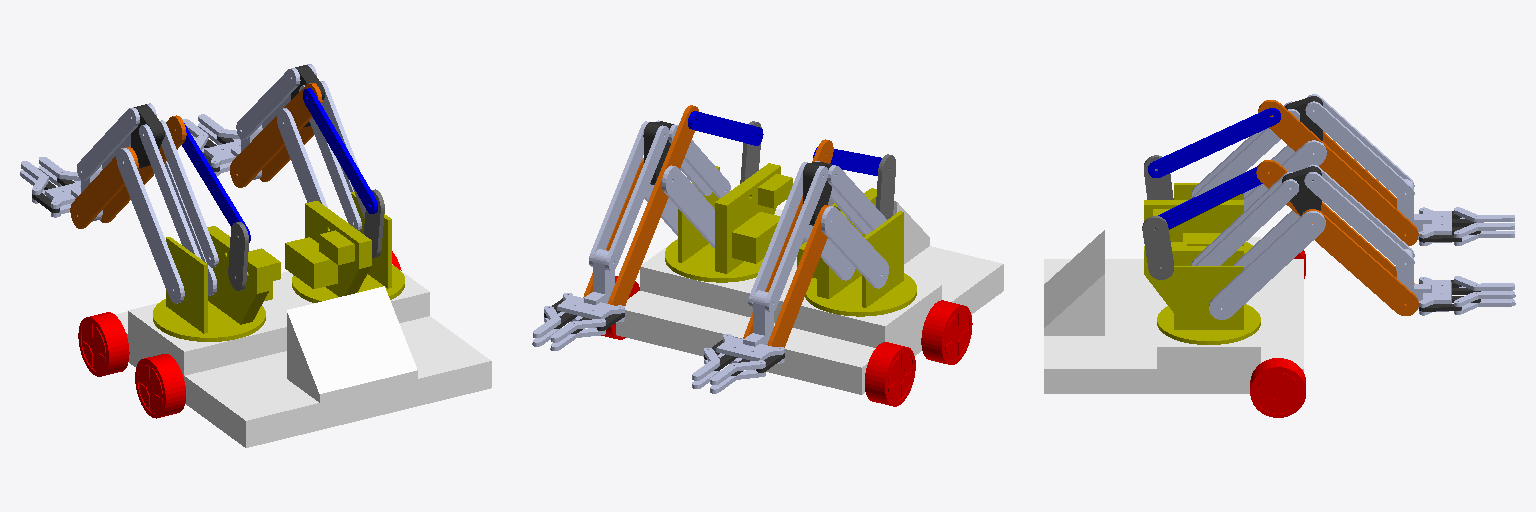
--- Facts derived from the render (not from the file) ---
The picture shows the robot from 3 angles, left to right: view 1: azimuth 30°, elevation 25°; view 2: azimuth 150°, elevation 25°; view 3: azimuth 270°, elevation 25°; orthographic projection.
Model little_boy_urdf with 37 links and 36 joints (36 continuous), rooted at robot_body, posed all joints at 0.
Links seen in each view (by area): view 1: robot_body, shoulder_L, shoulder_R, humSupport_L, humerus_L, ulna_R, ulna_L, wheel_L2, wheel_L1, humSupport_R, triceps_R, ulnaSupport_L (+11 smaller); view 2: robot_body, shoulder_R, shoulder_L, ulnaSupport_L, ulna_R, ulnaSupport_R, humerus_L, ulna_L, wheel_L1, wheel_L2, humerus_R, wrist_L (+13 smaller); view 3: robot_body, shoulder_R, ulna_R, humerus_R, ulna_L, ulnaSupport_R, ulnaSupport_L, humSupport_R, shoulder_L, wheel_R1, triceps_L, humSupport_L (+10 smaller).
Link boxes in pixels (<box>): robot_body: <box>115,264,491,447</box>; shoulder_L: <box>153,226,280,341</box>; shoulder_R: <box>285,192,404,302</box>; humSupport_L: <box>139,120,218,267</box>; humerus_L: <box>116,148,216,303</box>; ulna_R: <box>230,83,322,187</box>; ulna_L: <box>70,115,186,228</box>; wheel_L2: <box>135,354,185,418</box>; wheel_L1: <box>78,312,129,376</box>; humSupport_R: <box>299,81,365,230</box>; triceps_R: <box>303,88,377,213</box>; ulnaSupport_L: <box>77,103,156,180</box>; robot_body: <box>616,198,1003,394</box>; shoulder_R: <box>665,163,792,282</box>; shoulder_L: <box>797,188,916,316</box>; ulnaSupport_L: <box>748,162,827,312</box>; ulna_R: <box>583,105,698,305</box>; ulnaSupport_R: <box>589,121,668,270</box>; humerus_L: <box>804,206,888,288</box>; ulna_L: <box>743,139,833,347</box>; wheel_L1: <box>865,342,915,406</box>; wheel_L2: <box>921,300,972,364</box>; humerus_R: <box>642,158,714,247</box>; wrist_L: <box>716,290,784,369</box>; robot_body: <box>1044,230,1303,393</box>; shoulder_R: <box>1144,242,1260,344</box>; ulna_R: <box>1256,160,1418,315</box>; humerus_R: <box>1209,201,1325,319</box>; ulna_L: <box>1258,100,1418,245</box>; ulnaSupport_R: <box>1304,164,1414,270</box>; ulnaSupport_L: <box>1305,94,1414,201</box>; humSupport_R: <box>1192,172,1298,265</box>; shoulder_L: <box>1144,183,1252,253</box>; wheel_R1: <box>1250,358,1305,417</box>; triceps_L: <box>1148,108,1280,177</box>; humSupport_L: <box>1192,101,1299,197</box>.
Bounding box of the posed robot: 0.36 × 0.5439 × 0.2826 m (x, y, z).
Meshes: 37 distinct files referenced, 34 mesh visuals loaded (34 binary STL); not drawn: 3 (reference not matched to a file when rendering).

URDF robot description (little_boy_urdf):
<?xml version="1.0" encoding="utf-8"?>
<!-- This URDF was automatically created by SolidWorks to URDF Exporter! Originally created by Stephen Brawner ([email redacted]) 
     Commit Version: 1.5.1-0-g916b5db  Build Version: 1.5.7152.31018
     For more information, please see http://wiki.ros.org/sw_urdf_exporter -->
<robot
  name="little_boy_urdf">
  
  
  
  
  <link
    name="robot_body">
    <inertial>
      <origin
        xyz="9.21176008618388E-18 6.56352555085717E-05 0.0269020159399907"
        rpy="0 0 0" />
      <mass
        value="4.266" />
      <inertia
        ixx="0.0303319746647914"
        ixy="5.25706915345657E-18"
        ixz="-1.25619509476993E-18"
        iyy="0.0311586930426629"
        iyz="0.000455042564463212"
        izz="0.0584004816221285" />
    </inertial>
    <visual>
      <origin
        xyz="0 0 0"
        rpy="0 0 0" />
      <geometry>
        <mesh
          filename="package://little_boy_urdf/meshes/robot_body.STL" />
      </geometry>
      <material
        name="">
        <color
          rgba="1 1 1 1" />
      </material>
    </visual>
    <collision>
      <origin
        xyz="0 0 0"
        rpy="0 0 0" />
      <geometry>
        <mesh
          filename="package://little_boy_urdf/meshes/robot_body.STL" />
      </geometry>
    </collision>
  </link>
  
  
  <link
    name="shoulder_L">
    <inertial>
      <origin
        xyz="0.0176282080548852 0.0370896616143596 0.00815080609993397"
        rpy="0 0 0" />
      <mass
        value="0.283423667764616" />
      <inertia
        ixx="0.000265257278790206"
        ixy="-4.2628910300814E-22"
        ixz="7.10003077447642E-09"
        iyy="0.00025941290370256"
        iyz="-1.9172409284844E-06"
        izz="0.000144352415869328" />
    </inertial>
    <visual>
      <origin
        xyz="0 0 0"
        rpy="0 0 0" />
      <geometry>
        <mesh
          filename="package://little_boy_urdf/meshes/shoulder_L.STL" />
      </geometry>
      <material
        name="">
        <color
          rgba="0.752941176470588 0.752941176470588 0 1" />
      </material>
    </visual>
    <collision>
      <origin
        xyz="0 0 0"
        rpy="0 0 0" />
      <geometry>
        <mesh
          filename="package://little_boy_urdf/meshes/shoulder_L.STL" />
      </geometry>
    </collision>
  </link>

  <joint
    name="servo_L0"
    type="continuous">
    <origin
      xyz="-0.085 0.04 0.06"
      rpy="1.5708 0 0" />
    <parent
      link="robot_body" />
    <child
      link="shoulder_L" />
    <axis
      xyz="0 1 0" />
  </joint>
  
  
  <link
    name="humerus_L">
    <inertial>
      <origin
        xyz="-0.0750000000000015 -2.74849587533765E-14 0.012499999999989"
        rpy="0 0 0" />
      <mass
        value="0.0519272118011656" />
      <inertia
        ixx="3.88070998990836E-06"
        ixy="-4.40465602901709E-17"
        ixz="-1.48711239403269E-17"
        iyy="0.000130596276371464"
        iyz="-4.16767946942295E-19"
        izz="0.000134260622978868" />
    </inertial>
    <visual>
      <origin
        xyz="0 0 0"
        rpy="0 0 0" />
      <geometry>
        <mesh
          filename="package://little_boy_urdf/meshes/humerus_L.STL" />
      </geometry>
      <material
        name="">
        <color
          rgba="0.792156862745098 0.819607843137255 0.933333333333333 1" />
      </material>
    </visual>
    <collision>
      <origin
        xyz="0 0 0"
        rpy="0 0 0" />
      <geometry>
        <mesh
          filename="package://little_boy_urdf/meshes/humerus_L.STL" />
      </geometry>
    </collision>
  </link>

  <joint
    name="servo_L1"
    type="continuous">
    <origin
      xyz="0 0.035 -0.015"
      rpy="1.5708 -0.7854 -1.5708" />
    <parent
      link="shoulder_L" />
    <child
      link="humerus_L" />
    <axis
      xyz="0 0 1" />
  </joint>
  
  
  <link
    name="elbow_L">
    <inertial>
      <origin
        xyz="-0.00793696847270822 0.0282227462443586 0.00749999999996474"
        rpy="0 0 0" />
      <mass
        value="0.0427619510241515" />
      <inertia
        ixx="1.36758061050991E-05"
        ixy="1.99613319993035E-06"
        ixz="-4.37784798637207E-22"
        iyy="6.30957779977599E-06"
        iyz="-2.23039997158108E-22"
        izz="1.83818107414694E-05" />
    </inertial>
    <visual>
      <origin
        xyz="0 0 0"
        rpy="0 0 0" />
      <geometry>
        <mesh
          filename="package://little_boy_urdf/meshes/elbow_L.STL" />
      </geometry>
      <material
        name="">
        <color
          rgba="0.250980392156863 0.250980392156863 0.250980392156863 1" />
      </material>
    </visual>
    <collision>
      <origin
        xyz="0 0 0"
        rpy="0 0 0" />
      <geometry>
        <mesh
          filename="package://little_boy_urdf/meshes/elbow_L.STL" />
      </geometry>
    </collision>
  </link>

  <joint
    name="elbow_humerus_joint_L"
    type="continuous">
    <origin
      xyz="-0.15 0 0.02"
      rpy="3.1416 0 -2.3514" />
    <parent
      link="humerus_L" />
    <child
      link="elbow_L" />
    <axis
      xyz="0 0 1" />
  </joint>
  
  
  <link
    name="ulnaSupport_L">
    <inertial>
      <origin
        xyz="-0.0750000000002135 -4.1133763062362E-14 -0.00750000000015374"
        rpy="0 0 0" />
      <mass
        value="0.0330002209841783" />
      <inertia
        ixx="1.1472107551594E-06"
        ixy="-4.91914913513527E-17"
        ixz="-4.68497760382373E-17"
        iyy="7.52734537911621E-05"
        iyz="6.29487683505912E-19"
        izz="7.62831636255541E-05" />
    </inertial>
    <visual>
      <origin
        xyz="0 0 0"
        rpy="0 0 0" />
      <geometry>
        <mesh
          filename="package://little_boy_urdf/meshes/ulnaSupport_L.STL" />
      </geometry>
      <material
        name="">
        <color
          rgba="0.792156862745098 0.819607843137255 0.933333333333333 1" />
      </material>
    </visual>
    <collision>
      <origin
        xyz="0 0 0"
        rpy="0 0 0" />
      <geometry>
        <mesh
          filename="package://little_boy_urdf/meshes/ulnaSupport_L.STL" />
      </geometry>
    </collision>
  </link>

  <joint
    name="ulnaSupport_elbow_joint_L"
    type="continuous">
    <origin
      xyz="0 0.05 0"
      rpy="3.1416 0 2.361" />
    <parent
      link="elbow_L" />
    <child
      link="ulnaSupport_L" />
    <axis
      xyz="0 0 1" />
  </joint>
  
  
  <link
    name="ulna_L">
    <inertial>
      <origin
        xyz="0.0545874765335618 3.00315328161105E-14 0.00998412959802818"
        rpy="0 0 0" />
      <mass
        value="0.0623918688838127" />
      <inertia
        ixx="4.68999147843953E-06"
        ixy="-1.60362395156552E-16"
        ixz="1.52891544727598E-16"
        iyy="0.000245475802534651"
        iyz="-2.76301776881152E-18"
        izz="0.000249905827892741" />
    </inertial>
    <visual>
      <origin
        xyz="0 0 0"
        rpy="0 0 0" />
      <geometry>
        <mesh
          filename="package://little_boy_urdf/meshes/ulna_L.STL" />
      </geometry>
      <material
        name="">
        <color
          rgba="0.909803921568627 0.443137254901961 0.0313725490196078 1" />
      </material>
    </visual>
    <collision>
      <origin
        xyz="0 0 0"
        rpy="0 0 0" />
      <geometry>
        <mesh
          filename="package://little_boy_urdf/meshes/ulna_L.STL" />
      </geometry>
    </collision>
  </link>

  <joint
    name="ulna_humerus_joint_L"
    type="continuous">
    <origin
      xyz="-0.15 0 0"
      rpy="0 0 -1.5708" />
    <parent
      link="humerus_L" />
    <child
      link="ulna_L" />
    <axis
      xyz="0 0 1" />
  </joint>
  
  
  <link
    name="wrist_L">
    <inertial>
      <origin
        xyz="0.00749999999967534 0.0120255662033428 0.0177078963678105"
        rpy="0 0 0" />
      <mass
        value="0.045714101606315" />
      <inertia
        ixx="1.44625861769414E-05"
        ixy="-2.58465531825402E-18"
        ixz="-3.3417103259848E-18"
        iyy="1.14249586142422E-05"
        iyz="1.96430007002813E-06"
        izz="1.69837601342726E-05" />
    </inertial>
    <visual>
      <origin
        xyz="0 0 0"
        rpy="0 0 0" />
      <geometry>
        <mesh
          filename="package://little_boy_urdf/meshes/wrist_L.STL" />
      </geometry>
      <material
        name="">
        <color
          rgba="0.792156862745098 0.819607843137255 0.933333333333333 1" />
      </material>
    </visual>
    <collision>
      <origin
        xyz="0 0 0"
        rpy="0 0 0" />
      <geometry>
        <mesh
          filename="package://little_boy_urdf/meshes/wrist_L.STL" />
      </geometry>
    </collision>
  </link>

  <joint
    name="wrist_ulna_joint_L"
    type="continuous">
    <origin
      xyz="0.15 0 0.005"
      rpy="2.3514 -1.5708 0" />
    <parent
      link="ulna_L" />
    <child
      link="wrist_L" />
    <axis
      xyz="1 0 0" />
  </joint>
  
  
  <link
    name="metacarpal_1_L">
    <inertial>
      <origin
        xyz="-7.72187869202412E-13 -0.00249999999887215 -0.0200000000001463"
        rpy="0 0 0" />
      <mass
        value="0.00236128315516283" />
      <inertia
        ixx="4.51879117250703E-07"
        ixy="9.61510750502193E-23"
        ixz="-9.4930917662086E-18"
        iyy="4.66072959289763E-07"
        iyz="4.27636673182974E-20"
        izz="2.40325218522389E-08" />
    </inertial>
    <visual>
      <origin
        xyz="0 0 0"
        rpy="0 0 0" />
      <geometry>
        <mesh
          filename="package://little_boy_urdf/meshes/metacarpal_1_L.STL" />
      </geometry>
      <material
        name="">
        <color
          rgba="0.250980392156863 0.250980392156863 0.250980392156863 1" />
      </material>
    </visual>
    <collision>
      <origin
        xyz="0 0 0"
        rpy="0 0 0" />
      <geometry>
        <mesh
          filename="package://little_boy_urdf/meshes/metacarpal_1_L.STL" />
      </geometry>
    </collision>
  </link>

  <joint
    name="metacarpal_1_joint_L"
    type="continuous">
    <origin
      xyz="0.039713 0 0.020587"
      rpy="3.1416 1.0036E-05 0" />
    <parent
      link="wrist_L" />
    <child
      link="metacarpal_1_L" />
    <axis
      xyz="0 1 0" />
  </joint>
  
  
  <link
    name="metacarpal_2_L">
    <inertial>
      <origin
        xyz="-8.00359778452275E-13 -0.00249999999886992 -0.0200000000001181"
        rpy="0 0 0" />
      <mass
        value="0.00236128315516283" />
      <inertia
        ixx="4.51879117250703E-07"
        ixy="9.35657348946512E-23"
        ixz="-9.49429593620286E-18"
        iyy="4.66072959289763E-07"
        iyz="4.27965348229493E-20"
        izz="2.40325218522389E-08" />
    </inertial>
    <visual>
      <origin
        xyz="0 0 0"
        rpy="0 0 0" />
      <geometry>
        <mesh
          filename="package://little_boy_urdf/meshes/metacarpal_2_L.STL" />
      </geometry>
      <material
        name="">
        <color
          rgba="0.250980392156863 0.250980392156863 0.250980392156863 1" />
      </material>
    </visual>
    <collision>
      <origin
        xyz="0 0 0"
        rpy="0 0 0" />
      <geometry>
        <mesh
          filename="package://little_boy_urdf/meshes/metacarpal_2_L.STL" />
      </geometry>
    </collision>
  </link>

  <joint
    name="metacarpal_2_servo_L"
    type="continuous">
    <origin
      xyz="0.0185 0 0.0418"
      rpy="3.1416 1.0036E-05 0" />
    <parent
      link="wrist_L" />
    <child
      link="metacarpal_2_L" />
    <axis
      xyz="0 1 0" />
  </joint>
  
  
  <link
    name="finger_A_L">
    <inertial>
      <origin
        xyz="0.0051130677035132 0.00750000000113296 -0.00728422296134446"
        rpy="0 0 0" />
      <mass
        value="0.00771718769015706" />
      <inertia
        ixx="3.08987109886225E-06"
        ixy="9.14133838544602E-20"
        ixz="-9.12550467900636E-07"
        iyy="3.56022426581631E-06"
        iyz="3.02006743570407E-19"
        izz="5.02508115663053E-07" />
    </inertial>
    <visual>
      <origin
        xyz="0 0 0"
        rpy="0 0 0" />
      <geometry>
        <mesh
          filename="package://little_boy_urdf/meshes/finger_A_L.STL" />
      </geometry>
      <material
        name="">
        <color
          rgba="0.792156862745098 0.819607843137255 0.933333333333333 1" />
      </material>
    </visual>
    <collision>
      <origin
        xyz="0 0 0"
        rpy="0 0 0" />
      <geometry>
        <mesh
          filename="package://little_boy_urdf/meshes/finger_A_L.STL" />
      </geometry>
    </collision>
  </link>

  <joint
    name="finger_A_servo_joint_L"
    type="continuous">
    <origin
      xyz="0 -0.01 -0.04"
      rpy="0 1.0036E-05 0" />
    <parent
      link="metacarpal_2_L" />
    <child
      link="finger_A_L" />
    <axis
      xyz="0 1 0" />
  </joint>
  
  
  <link
    name="metacarpal_3_L">
    <inertial>
      <origin
        xyz="2.41667796885281E-13 0.00249999999886959 -0.020000000000073"
        rpy="0 0 0" />
      <mass
        value="0.00236128315516283" />
      <inertia
        ixx="4.51879117250705E-07"
        ixy="9.85991589449483E-23"
        ixz="-2.29980156317975E-18"
        iyy="4.66072959289765E-07"
        iyz="-4.28431154311937E-20"
        izz="2.4032521852239E-08" />
    </inertial>
    <visual>
      <origin
        xyz="0 0 0"
        rpy="0 0 0" />
      <geometry>
        <mesh
          filename="package://little_boy_urdf/meshes/metacarpal_3_L.STL" />
      </geometry>
      <material
        name="">
        <color
          rgba="0.250980392156863 0.250980392156863 0.250980392156863 1" />
      </material>
    </visual>
    <collision>
      <origin
        xyz="0 0 0"
        rpy="0 0 0" />
      <geometry>
        <mesh
          filename="package://little_boy_urdf/meshes/metacarpal_3_L.STL" />
      </geometry>
    </collision>
  </link>

  <joint
    name="metacarpal_3_servo_L"
    type="continuous">
    <origin
      xyz="-0.0035 0 0.0418"
      rpy="3.1416 0 3.1416" />
    <parent
      link="wrist_L" />
    <child
      link="metacarpal_3_L" />
    <axis
      xyz="0 1 0" />
  </joint>
  
  
  <link
    name="finger_B_L">
    <inertial>
      <origin
        xyz="0.00511306770490098 0.00749999999886694 -0.00728422296129155"
        rpy="0 0 0" />
      <mass
        value="0.00771718769015706" />
      <inertia
        ixx="3.08987109886708E-06"
        ixy="-8.53575945899595E-20"
        ixz="-9.12550467893775E-07"
        iyy="3.56022426581631E-06"
        iyz="-2.90191088905547E-19"
        izz="5.02508115658215E-07" />
    </inertial>
    <visual>
      <origin
        xyz="0 0 0"
        rpy="0 0 0" />
      <geometry>
        <mesh
          filename="package://little_boy_urdf/meshes/finger_B_L.STL" />
      </geometry>
      <material
        name="">
        <color
          rgba="0.792156862745098 0.819607843137255 0.933333333333333 1" />
      </material>
    </visual>
    <collision>
      <origin
        xyz="0 0 0"
        rpy="0 0 0" />
      <geometry>
        <mesh
          filename="package://little_boy_urdf/meshes/finger_B_L.STL" />
      </geometry>
    </collision>
  </link>

  <joint
    name="finger_B_servo_joint_L"
    type="continuous">
    <origin
      xyz="0 -0.005 -0.04"
      rpy="0 0 0" />
    <parent
      link="metacarpal_3_L" />
    <child
      link="finger_B_L" />
    <axis
      xyz="0 1 0" />
  </joint>
  
  
  <link
    name="metacarpal_4_L">
    <inertial>
      <origin
        xyz="2.07750483482982E-13 0.0024999999988716 -0.0200000000000364"
        rpy="0 0 0" />
      <mass
        value="0.00236128315516283" />
      <inertia
        ixx="4.51879117250705E-07"
        ixy="9.84943106563718E-23"
        ixz="-2.30037306044047E-18"
        iyy="4.66072959289765E-07"
        iyz="-4.28447633300703E-20"
        izz="2.4032521852239E-08" />
    </inertial>
    <visual>
      <origin
        xyz="0 0 0"
        rpy="0 0 0" />
      <geometry>
        <mesh
          filename="package://little_boy_urdf/meshes/metacarpal_4_L.STL" />
      </geometry>
      <material
        name="">
        <color
          rgba="0.250980392156863 0.250980392156863 0.250980392156863 1" />
      </material>
    </visual>
    <collision>
      <origin
        xyz="0 0 0"
        rpy="0 0 0" />
      <geometry>
        <mesh
          filename="package://little_boy_urdf/meshes/metacarpal_4_L.STL" />
      </geometry>
    </collision>
  </link>

  <joint
    name="metacarpal_4_joint_L"
    type="continuous">
    <origin
      xyz="-0.024713 0 0.020587"
      rpy="3.1416 0 3.1416" />
    <parent
      link="wrist_L" />
    <child
      link="metacarpal_4_L" />
    <axis
      xyz="0 1 0" />
  </joint>
  
  
  <link
    name="servo_shaft_L">
    <inertial>
      <origin
        xyz="0.0250000000000005 1.19747961546679E-14 0.00249999999998604"
        rpy="0 0 0" />
      <mass
        value="0.0141430516117517" />
      <inertia
        ixx="1.01149544349088E-06"
        ixy="6.89537758624204E-21"
        ixz="4.45393602417327E-21"
        iyy="6.54527770083572E-06"
        iyz="1.25493966470477E-18"
        izz="7.49784376261097E-06" />
    </inertial>
    <visual>
      <origin
        xyz="0 0 0"
        rpy="0 0 0" />
      <geometry>
        <mesh
          filename="package://little_boy_urdf/meshes/servo_shaft_L.STL" />
      </geometry>
      <material
        name="">
        <color
          rgba="0.501960784313725 0.501960784313725 0.501960784313725 1" />
      </material>
    </visual>
    <collision>
      <origin
        xyz="0 0 0"
        rpy="0 0 0" />
      <geometry>
        <mesh
          filename="package://little_boy_urdf/meshes/servo_shaft_L.STL" />
      </geometry>
    </collision>
  </link>

  <joint
    name="servo_L2"
    type="continuous">
    <origin
      xyz="0 0.07 0.055"
      rpy="1.5708 -0.11279 1.5708" />
    <parent
      link="shoulder_L" />
    <child
      link="servo_shaft_L" />
    <axis
      xyz="0 0 1" />
  </joint>
  
  
  <link
    name="triceps_L">
    <inertial>
      <origin
        xyz="0.00250000000029808 -6.0507154842071E-15 -0.0750000000000162"
        rpy="0 0 0" />
      <mass
        value="0.0163744467859455" />
      <inertia
        ixx="3.74341893949681E-05"
        ixy="3.16112727647383E-19"
        ixz="4.307132957629E-17"
        iyy="3.69293397137599E-05"
        iyz="-3.62635980543247E-21"
        izz="5.73076542816348E-07" />
    </inertial>
    <visual>
      <origin
        xyz="0 0 0"
        rpy="0 0 0" />
      <geometry>
        <mesh
          filename="package://little_boy_urdf/meshes/triceps_L.STL" />
      </geometry>
      <material
        name="">
        <color
          rgba="0 0 1 1" />
      </material>
    </visual>
    <collision>
      <origin
        xyz="0 0 0"
        rpy="0 0 0" />
      <geometry>
        <mesh
          filename="package://little_boy_urdf/meshes/triceps_L.STL" />
      </geometry>
    </collision>
  </link>

  <joint
    name="triceps_shaft_joint_L"
    type="continuous">
    <origin
      xyz="0.05 0 0.005"
      rpy="-1.2133 -1.5708 0" />
    <parent
      link="servo_shaft_L" />
    <child
      link="triceps_L" />
    <axis
      xyz="1 0 0" />
  </joint>

  
  
  <link
    name="humSupport_L">
    <inertial>
      <origin
        xyz="-0.0749999999999453 8.58479953791402E-14 0.012499999999954"
        rpy="0 0 0" />
      <mass
        value="0.0330002209841783" />
      <inertia
        ixx="1.14721075515941E-06"
        ixy="8.04681299891585E-21"
        ixz="-7.00483995253702E-17"
        iyy="7.52734537911621E-05"
        iyz="-9.51672403526677E-19"
        izz="7.62831636255541E-05" />
    </inertial>
    <visual>
      <origin
        xyz="0 0 0"
        rpy="0 0 0" />
      <geometry>
        <mesh
          filename="package://little_boy_urdf/meshes/humSupport_L.STL" />
      </geometry>
      <material
        name="">
        <color
          rgba="0.792156862745098 0.819607843137255 0.933333333333333 1" />
      </material>
    </visual>
    <collision>
      <origin
        xyz="0 0 0"
        rpy="0 0 0" />
      <geometry>
        <mesh
          filename="package://little_boy_urdf/meshes/humSupport_L.STL" />
      </geometry>
    </collision>
  </link>

  <joint
    name="humSupport_shoulder_joint_L"
    type="continuous">
    <origin
      xyz="0 0.075 0.01"
      rpy="1.5708 -0.77972 -1.5708" />
    <parent
      link="shoulder_L" />
    <child
      link="humSupport_L" />
    <axis
      xyz="0 0 1" />
  </joint>
  
  
  <link
    name="shoulder_R">
    <inertial>
      <origin
        xyz="-0.0176282080549164 0.0370896616143596 0.0081508060998698"
        rpy="0 0 0" />
      <mass
        value="0.283423667764616" />
      <inertia
        ixx="0.000265257278790206"
        ixy="-2.07816321178574E-21"
        ixz="-7.10003077447253E-09"
        iyy="0.000259412903702561"
        iyz="-1.91724092848441E-06"
        izz="0.000144352415869328" />
    </inertial>
    <visual>
      <origin
        xyz="0 0 0"
        rpy="0 0 0" />
      <geometry>
        <mesh
          filename="package://little_boy_urdf/meshes/shoulder_R.STL" />
      </geometry>
      <material
        name="">
        <color
          rgba="0.752941176470588 0.752941176470588 0 1" />
      </material>
    </visual>
    <collision>
      <origin
        xyz="0 0 0"
        rpy="0 0 0" />
      <geometry>
        <mesh
          filename="package://little_boy_urdf/meshes/shoulder_R.STL" />
      </geometry>
    </collision>
  </link>

  <joint
    name="servo_R0"
    type="continuous">
    <origin
      xyz="0.085 0.04 0.06"
      rpy="1.5708 0 0" />
    <parent
      link="robot_body" />
    <child
      link="shoulder_R" />
    <axis
      xyz="0 1 0" />
  </joint>
  
  
  <link
    name="humerus_R">
    <inertial>
      <origin
        xyz="-0.18139560327071 0.0270180607123726 -0.0975000000000175"
        rpy="0 0 0" />
      <mass
        value="0.0519272118011655" />
      <inertia
        ixx="3.88070998990834E-06"
        ixy="-1.76710342796797E-16"
        ixz="-3.60953505572571E-17"
        iyy="0.000130596276371464"
        iyz="-1.03885752512105E-18"
        izz="0.000134260622978868" />
    </inertial>
    <visual>
      <origin
        xyz="0 0 0"
        rpy="0 0 0" />
      <geometry>
        <mesh
          filename="package://little_boy_urdf/meshes/humerus_R.STL" />
      </geometry>
      <material
        name="">
        <color
          rgba="0.792156862745098 0.819607843137255 0.933333333333333 1" />
      </material>
    </visual>
    <collision>
      <origin
        xyz="0 0 0"
        rpy="0 0 0" />
      <geometry>
        <mesh
          filename="package://little_boy_urdf/meshes/humerus_R.STL" />
      </geometry>
    </collision>
  </link>

  <joint
    name="servo_R1"
    type="continuous">
    <origin
      xyz="-0.085 -0.06 0.04"
      rpy="1.5708 -0.77348 -1.5708" />
    <parent
      link="shoulder_R" />
    <child
      link="humerus_R" />
    <axis
      xyz="0 0 1" />
  </joint>
  
  
  <link
    name="elbow_R">
    <inertial>
      <origin
        xyz="-0.00793696847263409 0.0282227462443854 0.00749999999998885"
        rpy="0 0 0" />
      <mass
        value="0.0427619510241515" />
      <inertia
        ixx="1.36758061050991E-05"
        ixy="1.99613319993036E-06"
        ixz="4.0551424973032E-23"
        iyy="6.30957779977599E-06"
        iyz="-2.97817712724721E-24"
        izz="1.83818107414694E-05" />
    </inertial>
    <visual>
      <origin
        xyz="0 0 0"
        rpy="0 0 0" />
      <geometry>
        <mesh
          filename="package://little_boy_urdf/meshes/elbow_R.STL" />
      </geometry>
      <material
        name="">
        <color
          rgba="0.250980392156863 0.250980392156863 0.250980392156863 1" />
      </material>
    </visual>
    <collision>
      <origin
        xyz="0 0 0"
        rpy="0 0 0" />
      <geometry>
        <mesh
          filename="package://little_boy_urdf/meshes/elbow_R.STL" />
      </geometry>
    </collision>
  </link>

  <joint
    name="elbow_humerus_joint_R"
    type="continuous">
    <origin
      xyz="-0.2564 0.027018 -0.09"
      rpy="3.1416 0 -2.3397" />
    <parent
      link="humerus_R" />
    <child
      link="elbow_R" />
    <axis
      xyz="0 0 1" />
  </joint>
  
  
  <link
    name="ulnaSupport_R">
    <inertial>
      <origin
        xyz="-0.0750000000002882 -6.42819131257966E-13 -0.00749999999998884"
        rpy="0 0 0" />
      <mass
        value="0.0330002209841782" />
      <inertia
        ixx="1.1472107551594E-06"
        ixy="-6.73613327457586E-16"
        ixz="-4.58181278183729E-21"
        iyy="7.5273453791162E-05"
        iyz="-4.39979213015607E-22"
        izz="7.6283163625554E-05" />
    </inertial>
    <visual>
      <origin
        xyz="0 0 0"
        rpy="0 0 0" />
      <geometry>
        <mesh
          filename="package://little_boy_urdf/meshes/ulnaSupport_R.STL" />
      </geometry>
      <material
        name="">
        <color
          rgba="0.792156862745098 0.819607843137255 0.933333333333333 1" />
      </material>
    </visual>
    <collision>
      <origin
        xyz="0 0 0"
        rpy="0 0 0" />
      <geometry>
        <mesh
          filename="package://little_boy_urdf/meshes/ulnaSupport_R.STL" />
      </geometry>
    </collision>
  </link>

  <joint
    name="ulnaSupport_elbow_joint_R"
    type="continuous">
    <origin
      xyz="0 0.05 0"
      rpy="3.1416 0 2.3727" />
    <parent
      link="elbow_R" />
    <child
      link="ulnaSupport_R" />
    <axis
      xyz="0 0 1" />
  </joint>
  
  
  <link
    name="ulna_R">
    <inertial>
      <origin
        xyz="0.0545874765336343 -4.83280082619331E-13 0.0149841295981894"
        rpy="0 0 0" />
      <mass
        value="0.0623918688838127" />
      <inertia
        ixx="4.68999147843957E-06"
        ixy="2.19191183859792E-15"
        ixz="-2.05908564508752E-21"
        iyy="0.000245475802534651"
        iyz="2.21274712294068E-22"
        izz="0.000249905827892741" />
    </inertial>
    <visual>
      <origin
        xyz="0 0 0"
        rpy="0 0 0" />
      <geometry>
        <mesh
          filename="package://little_boy_urdf/meshes/ulna_R.STL" />
      </geometry>
      <material
        name="">
        <color
          rgba="0.909803921568627 0.443137254901961 0.0313725490196078 1" />
      </material>
    </visual>
    <collision>
      <origin
        xyz="0 0 0"
        rpy="0 0 0" />
      <geometry>
        <mesh
          filename="package://little_boy_urdf/meshes/ulna_R.STL" />
      </geometry>
    </collision>
  </link>

  <joint
    name="ulna_humerus_joint_R"
    type="continuous">
    <origin
      xyz="-0.2564 0.027018 -0.08"
      rpy="3.1416 0 -1.5708" />
    <parent
      link="humerus_R" />
    <child
      link="ulna_R" />
    <axis
      xyz="0 0 1" />
  </joint>
  
  
  <link
    name="wrist_R">
    <inertial>
      <origin
        xyz="0.0074999999999464 0.0120255662033048 0.0177078963668985"
        rpy="0 0 0" />
      <mass
        value="0.0457141016063151" />
      <inertia
        ixx="1.44625861769414E-05"
        ixy="-2.75810195551636E-19"
        ixz="-3.3579156107031E-19"
        iyy="1.1424958614247E-05"
        iyz="1.96430007003489E-06"
        izz="1.69837601342679E-05" />
    </inertial>
    <visual>
      <origin
        xyz="0 0 0"
        rpy="0 0 0" />
      <geometry>
        <mesh
          filename="package://little_boy_urdf/meshes/wrist_R.STL" />
      </geometry>
      <material
        name="">
        <color
          rgba="0.792156862745098 0.819607843137255 0.933333333333333 1" />
      </material>
    </visual>
    <collision>
      <origin
        xyz="0 0 0"
        rpy="0 0 0" />
      <geometry>
        <mesh
          filename="package://little_boy_urdf/meshes/wrist_R.STL" />
      </geometry>
    </collision>
  </link>

  <joint
    name="wrist_ulna_joint_R"
    type="continuous">
    <origin
      xyz="0.15 0 0.025"
      rpy="-0.7902 1.5708 0" />
    <parent
      link="ulna_R" />
    <child
      link="wrist_R" />
    <axis
      xyz="1 0 0" />
  </joint>
  
  
  <link
    name="metacarpal_1_R">
    <inertial>
      <origin
        xyz="1.12340692304258E-12 0.00249999999881548 -0.0199999999991954"
        rpy="0 0 0" />
      <mass
        value="0.00236128315516283" />
      <inertia
        ixx="4.51879117250703E-07"
        ixy="5.02582089036964E-24"
        ixz="2.50181689419407E-17"
        iyy="4.66072959289763E-07"
        iyz="-1.06433781781596E-20"
        izz="2.4032521852239E-08" />
    </inertial>
    <visual>
      <origin
        xyz="0 0 0"
        rpy="0 0 0" />
      <geometry>
        <mesh
          filename="package://little_boy_urdf/meshes/metacarpal_1_R.STL" />
      </geometry>
      <material
        name="">
        <color
          rgba="0.250980392156863 0.250980392156863 0.250980392156863 1" />
      </material>
    </visual>
    <collision>
      <origin
        xyz="0 0 0"
        rpy="0 0 0" />
      <geometry>
        <mesh
          filename="package://little_boy_urdf/meshes/metacarpal_1_R.STL" />
      </geometry>
    </collision>
  </link>

  <joint
    name="metacarpal_1_joint_R"
    type="continuous">
    <origin
      xyz="-0.024713 0 0.020587"
      rpy="-3.1416 0 3.1416" />
    <parent
      link="wrist_R" />
    <child
      link="metacarpal_1_R" />
    <axis
      xyz="0 1 0" />
  </joint>
  
  
  <link
    name="metacarpal_2_R">
    <inertial>
      <origin
        xyz="1.11419207193819E-12 0.00249999999881495 -0.0199999999992157"
        rpy="0 0 0" />
      <mass
        value="0.00236128315516283" />
      <inertia
        ixx="4.51879117250703E-07"
        ixy="9.32171277535216E-24"
        ixz="2.50186666434093E-17"
        iyy="4.66072959289763E-07"
        iyz="-1.06488711744148E-20"
        izz="2.40325218522389E-08" />
    </inertial>
    <visual>
      <origin
        xyz="0 0 0"
        rpy="0 0 0" />
      <geometry>
        <mesh
          filename="package://little_boy_urdf/meshes/metacarpal_2_R.STL" />
      </geometry>
      <material
        name="">
        <color
          rgba="0.250980392156863 0.250980392156863 0.250980392156863 1" />
      </material>
    </visual>
    <collision>
      <origin
        xyz="0 0 0"
        rpy="0 0 0" />
      <geometry>
        <mesh
          filename="package://little_boy_urdf/meshes/metacarpal_2_R.STL" />
      </geometry>
    </collision>
  </link>

  <joint
    name="metacarpal_2_servo_R"
    type="continuous">
    <origin
      xyz="-0.0035 0 0.0418"
      rpy="-3.1416 0 3.1416" />
    <parent
      link="wrist_R" />
    <child
      link="metacarpal_2_R" />
    <axis
      xyz="0 1 0" />
  </joint>
  
  
  <link
    name="finger_A_R">
    <inertial>
      <origin
        xyz="0.00511306770568389 0.00749999999856431 -0.007284222960454"
        rpy="0 0 0" />
      <mass
        value="0.00771718769015706" />
      <inertia
        ixx="3.08987109886493E-06"
        ixy="-2.18160614754736E-20"
        ixz="-9.12550467896838E-07"
        iyy="3.56022426581631E-06"
        iyz="-7.33870503553983E-20"
        izz="5.02508115660376E-07" />
    </inertial>
    <visual>
      <origin
        xyz="0 0 0"
        rpy="0 0 0" />
      <geometry>
        <mesh
          filename="package://little_boy_urdf/meshes/finger_A_R.STL" />
      </geometry>
      <material
        name="">
        <color
          rgba="0.792156862745098 0.819607843137255 0.933333333333333 1" />
      </material>
    </visual>
    <collision>
      <origin
        xyz="0 0 0"
        rpy="0 0 0" />
      <geometry>
        <mesh
          filename="package://little_boy_urdf/meshes/finger_A_R.STL" />
      </geometry>
    </collision>
  </link>

  <joint
    name="finger_A_servo_joint_R"
    type="continuous">
    <origin
      xyz="0 -0.005 -0.04"
      rpy="0 0 0" />
    <parent
      link="metacarpal_2_R" />
    <child
      link="finger_A_R" />
    <axis
      xyz="0 1 0" />
  </joint>
  
  
  <link
    name="metacarpal_3_R">
    <inertial>
      <origin
        xyz="-8.8719309676577E-13 -0.00249999999866067 -0.0199999999991767"
        rpy="0 0 0" />
      <mass
        value="0.00236128315516283" />
      <inertia
        ixx="4.51879117250704E-07"
        ixy="6.57002236933468E-23"
        ixz="-9.24351419837797E-18"
        iyy="4.66072959289764E-07"
        iyz="2.30298844009098E-20"
        izz="2.4032521852239E-08" />
    </inertial>
    <visual>
      <origin
        xyz="0 0 0"
        rpy="0 0 0" />
      <geometry>
        <mesh
          filename="package://little_boy_urdf/meshes/metacarpal_3_R.STL" />
      </geometry>
      <material
        name="">
        <color
          rgba="0.250980392156863 0.250980392156863 0.250980392156863 1" />
      </material>
    </visual>
    <collision>
      <origin
        xyz="0 0 0"
        rpy="0 0 0" />
      <geometry>
        <mesh
          filename="package://little_boy_urdf/meshes/metacarpal_3_R.STL" />
      </geometry>
    </collision>
  </link>

  <joint
    name="metacarpal_3_servo_R"
    type="continuous">
    <origin
      xyz="0.0185 0 0.0418"
      rpy="3.1416 4.8624E-05 0" />
    <parent
      link="wrist_R" />
    <child
      link="metacarpal_3_R" />
    <axis
      xyz="0 1 0" />
  </joint>
  
  
  <link
    name="finger_B_R">
    <inertial>
      <origin
        xyz="0.00511306770295777 0.00750000000162716 -0.00728422296045389"
        rpy="0 0 0" />
      <mass
        value="0.00771718769015706" />
      <inertia
        ixx="3.08987109886293E-06"
        ixy="8.14763998644894E-20"
        ixz="-9.12550467899655E-07"
        iyy="3.56022426581631E-06"
        iyz="2.58436245575096E-19"
        izz="5.02508115662364E-07" />
    </inertial>
    <visual>
      <origin
        xyz="0 0 0"
        rpy="0 0 0" />
      <geometry>
        <mesh
          filename="package://little_boy_urdf/meshes/finger_B_R.STL" />
      </geometry>
      <material
        name="">
        <color
          rgba="0.792156862745098 0.819607843137255 0.933333333333333 1" />
      </material>
    </visual>
    <collision>
      <origin
        xyz="0 0 0"
        rpy="0 0 0" />
      <geometry>
        <mesh
          filename="package://little_boy_urdf/meshes/finger_B_R.STL" />
      </geometry>
    </collision>
  </link>

  <joint
    name="finger_B_servo_joint_R"
    type="continuous">
    <origin
      xyz="0 -0.01 -0.04"
      rpy="0 4.8624E-05 0" />
    <parent
      link="metacarpal_3_R" />
    <child
      link="finger_B_R" />
    <axis
      xyz="0 1 0" />
  </joint>
  
  
  <link
    name="metacarpal_4_R">
    <inertial>
      <origin
        xyz="-9.80771019953863E-13 -0.00249999999856372 -0.0199999999992274"
        rpy="0 0 0" />
      <mass
        value="0.00236128315516283" />
      <inertia
        ixx="4.51879117250703E-07"
        ixy="3.55844615163505E-23"
        ixz="-1.79827973918679E-17"
        iyy="4.66072959289764E-07"
        iyz="2.94665127893087E-20"
        izz="2.4032521852239E-08" />
    </inertial>
    <visual>
      <origin
        xyz="0 0 0"
        rpy="0 0 0" />
      <geometry>
        <mesh
          filename="package://little_boy_urdf/meshes/metacarpal_4_R.STL" />
      </geometry>
      <material
        name="">
        <color
          rgba="0.250980392156863 0.250980392156863 0.250980392156863 1" />
      </material>
    </visual>
    <collision>
      <origin
        xyz="0 0 0"
        rpy="0 0 0" />
      <geometry>
        <mesh
          filename="package://little_boy_urdf/meshes/metacarpal_4_R.STL" />
      </geometry>
    </collision>
  </link>

  <joint
    name="metacarpal_4_joint_R"
    type="continuous">
    <origin
      xyz="0.039713 0 0.020587"
      rpy="3.1416 4.8624E-05 0" />
    <parent
      link="wrist_R" />
    <child
      link="metacarpal_4_R" />
    <axis
      xyz="0 1 0" />
  </joint>
  
  
  <link
    name="servo_shaft_R">
    <inertial>
      <origin
        xyz="0.0250000000000169 1.08336950521704E-13 -0.00249999999998053"
        rpy="0 0 0" />
      <mass
        value="0.0141430516117517" />
      <inertia
        ixx="1.01149544349088E-06"
        ixy="-3.69253425443672E-21"
        ixz="-1.11706760111321E-21"
        iyy="6.54527770083571E-06"
        iyz="9.00699571608411E-19"
        izz="7.49784376261096E-06" />
    </inertial>
    <visual>
      <origin
        xyz="0 0 0"
        rpy="0 0 0" />
      <geometry>
        <mesh
          filename="package://little_boy_urdf/meshes/servo_shaft_R.STL" />
      </geometry>
      <material
        name="">
        <color
          rgba="0.501960784313725 0.501960784313725 0.501960784313725 1" />
      </material>
    </visual>
    <collision>
      <origin
        xyz="0 0 0"
        rpy="0 0 0" />
      <geometry>
        <mesh
          filename="package://little_boy_urdf/meshes/servo_shaft_R.STL" />
      </geometry>
    </collision>
  </link>

  <joint
    name="servo_R2"
    type="continuous">
    <origin
      xyz="0 0.07 0.055"
      rpy="1.5708 -0.14108 1.5708" />
    <parent
      link="shoulder_R" />
    <child
      link="servo_shaft_R" />
    <axis
      xyz="0 0 1" />
  </joint>
  
  
  <link
    name="triceps_R">
    <inertial>
      <origin
        xyz="-0.00250000000013904 -1.47104550762833E-14 -0.075000000000029"
        rpy="0 0 0" />
      <mass
        value="0.0163744467859455" />
      <inertia
        ixx="3.74341893949682E-05"
        ixy="9.55610909851871E-20"
        ixz="1.2832030193051E-17"
        iyy="3.69293397137599E-05"
        iyz="-1.67289007082724E-20"
        izz="5.73076542816348E-07" />
    </inertial>
    <visual>
      <origin
        xyz="0 0 0"
        rpy="0 0 0" />
      <geometry>
        <mesh
          filename="package://little_boy_urdf/meshes/triceps_R.STL" />
      </geometry>
      <material
        name="">
        <color
          rgba="0 0 1 1" />
      </material>
    </visual>
    <collision>
      <origin
        xyz="0 0 0"
        rpy="0 0 0" />
      <geometry>
        <mesh
          filename="package://little_boy_urdf/meshes/triceps_R.STL" />
      </geometry>
    </collision>
  </link>

  <joint
    name="triceps_shaft_joint_R"
    type="continuous">
    <origin
      xyz="0.05 0 -0.005"
      rpy="-1.2133 -1.5708 0" />
    <parent
      link="servo_shaft_R" />
    <child
      link="triceps_R" />
    <axis
      xyz="1 0 0" />
  </joint>
  
  
  <link
    name="humSupport_R">
    <inertial>
      <origin
        xyz="-0.0749999999999438 5.82589532172051E-14 -0.0125000000001841"
        rpy="0 0 0" />
      <mass
        value="0.0330002209841783" />
      <inertia
        ixx="1.14721075515939E-06"
        ixy="4.13987352970539E-20"
        ixz="-4.98558012775579E-17"
        iyy="7.52734537911622E-05"
        iyz="-6.93830642202458E-19"
        izz="7.62831636255542E-05" />
    </inertial>
    <visual>
      <origin
        xyz="0 0 0"
        rpy="0 0 0" />
      <geometry>
        <mesh
          filename="package://little_boy_urdf/meshes/humSupport_R.STL" />
      </geometry>
      <material
        name="">
        <color
          rgba="0.792156862745098 0.819607843137255 0.933333333333333 1" />
      </material>
    </visual>
    <collision>
      <origin
        xyz="0 0 0"
        rpy="0 0 0" />
      <geometry>
        <mesh
          filename="package://little_boy_urdf/meshes/humSupport_R.STL" />
      </geometry>
    </collision>
  </link>

  <joint
    name="humSupport_shoulder_joint_R"
    type="continuous">
    <origin
      xyz="0 0.075 0.01"
      rpy="1.5708 -0.76778 -1.5708" />
    <parent
      link="shoulder_R" />
    <child
      link="humSupport_R" />
    <axis
      xyz="0 0 1" />
  </joint>
  
  
  <link
    name="wheel_L1">
    <inertial>
      <origin
        xyz="0 0.0172695781169907 -1.38777878078145E-17"
        rpy="0 0 0" />
      <mass
        value="0.082261679681697" />
      <inertia
        ixx="2.59481111948719E-05"
        ixy="1.10232591508909E-21"
        ixz="2.53950102608748E-22"
        iyy="4.33989088629492E-05"
        iyz="4.02941112477308E-22"
        izz="2.59481111948719E-05" />
    </inertial>
    <visual>
      <origin
        xyz="0 0 0"
        rpy="0 0 0" />
      <geometry>
        <mesh
          filename="package://little_boy_urdf/meshes/wheel_L1.STL" />
      </geometry>
      <material
        name="">
        <color
          rgba="1 0 0 1" />
      </material>
    </visual>
    <collision>
      <origin
        xyz="0 0 0"
        rpy="0 0 0" />
      <geometry>
        <mesh
          filename="package://little_boy_urdf/meshes/wheel_L1.STL" />
      </geometry>
    </collision>
  </link>

  <joint
    name="motor_L1"
    type="continuous">
    <origin
      xyz="-0.15 0.12 0.0162"
      rpy="1.5708 -1.5708 0" />
    <parent
      link="robot_body" />
    <child
      link="wheel_L1" />
    <axis
      xyz="0 1 0" />
  </joint>
  
  
  <link
    name="wheel_L2">
    <inertial>
      <origin
        xyz="0 0.0172695781169907 -3.2177533578355E-19"
        rpy="0 0 0" />
      <mass
        value="0.082261679681697" />
      <inertia
        ixx="2.59481111948719E-05"
        ixy="-1.97992605185143E-22"
        ixz="5.68686671130207E-22"
        iyy="4.33989088629492E-05"
        iyz="6.89557197580604E-22"
        izz="2.59481111948719E-05" />
    </inertial>
    <visual>
      <origin
        xyz="0 0 0"
        rpy="0 0 0" />
      <geometry>
        <mesh
          filename="package://little_boy_urdf/meshes/wheel_L2.STL" />
      </geometry>
      <material
        name="">
        <color
          rgba="1 0 0 1" />
      </material>
    </visual>
    <collision>
      <origin
        xyz="0 0 0"
        rpy="0 0 0" />
      <geometry>
        <mesh
          filename="package://little_boy_urdf/meshes/wheel_L2.STL" />
      </geometry>
    </collision>
  </link>

  <joint
    name="motor_L2"
    type="continuous">
    <origin
      xyz="-0.15 0 0.0162"
      rpy="1.5708 -1.5708 0" />
    <parent
      link="robot_body" />
    <child
      link="wheel_L2" />
    <axis
      xyz="0 1 0" />
  </joint>
  
  
  <link
    name="wheel_L3">
    <inertial>
      <origin
        xyz="3.46944695195361E-18 0.0172695781169907 0"
        rpy="0 0 0" />
      <mass
        value="0.082261679681697" />
      <inertia
        ixx="2.59481111948719E-05"
        ixy="-4.21207142656656E-23"
        ixz="-1.50249603452011E-22"
        iyy="4.33989088629492E-05"
        iyz="-1.63395674882131E-22"
        izz="2.59481111948719E-05" />
    </inertial>
    <visual>
      <origin
        xyz="0 0 0"
        rpy="0 0 0" />
      <geometry>
        <mesh
          filename="package://little_boy_urdf/meshes/wheel_L3.STL" />
      </geometry>
      <material
        name="">
        <color
          rgba="1 0 0 1" />
      </material>
    </visual>
    <collision>
      <origin
        xyz="0 0 0"
        rpy="0 0 0" />
      <geometry>
        <mesh
          filename="package://little_boy_urdf/meshes/wheel_L3.STL" />
      </geometry>
    </collision>
  </link>

  <joint
    name="motor_L3"
    type="continuous">
    <origin
      xyz="-0.15 -0.12 0.0162"
      rpy="1.5708 -1.5708 0" />
    <parent
      link="robot_body" />
    <child
      link="wheel_L3" />
    <axis
      xyz="0 1 0" />
  </joint>
  
  
  <link
    name="wheel_R1">
    <inertial>
      <origin
        xyz="0 0.0172695781169907 0"
        rpy="0 0 0" />
      <mass
        value="0.082261679681697" />
      <inertia
        ixx="2.59481111948719E-05"
        ixy="-8.08693643645369E-22"
        ixz="-1.55096364853694E-22"
        iyy="4.33989088629492E-05"
        iyz="-3.36159706916526E-21"
        izz="2.59481111948719E-05" />
    </inertial>
    <visual>
      <origin
        xyz="0 0 0"
        rpy="0 0 0" />
      <geometry>
        <mesh
          filename="package://little_boy_urdf/meshes/wheel_R1.STL" />
      </geometry>
      <material
        name="">
        <color
          rgba="1 0 0 1" />
      </material>
    </visual>
    <collision>
      <origin
        xyz="0 0 0"
        rpy="0 0 0" />
      <geometry>
        <mesh
          filename="package://little_boy_urdf/meshes/wheel_R1.STL" />
      </geometry>
    </collision>
  </link>

  <joint
    name="motor_R1"
    type="continuous">
    <origin
      xyz="0.15 0.12 0.016"
      rpy="1.5708 1.5708 0" />
    <parent
      link="robot_body" />
    <child
      link="wheel_R1" />
    <axis
      xyz="0 1 0" />
  </joint>
  
  
  <link
    name="wheel_R2">
    <inertial>
      <origin
        xyz="0 0.0172695781169907 1.07920202357356E-17"
        rpy="0 0 0" />
      <mass
        value="0.082261679681697" />
      <inertia
        ixx="2.59481111948719E-05"
        ixy="-1.88962811489999E-21"
        ixz="3.26550549438048E-22"
        iyy="4.33989088629492E-05"
        iyz="-3.81806257800857E-21"
        izz="2.59481111948719E-05" />
    </inertial>
    <visual>
      <origin
        xyz="0 0 0"
        rpy="0 0 0" />
      <geometry>
        <mesh
          filename="package://little_boy_urdf/meshes/wheel_R2.STL" />
      </geometry>
      <material
        name="">
        <color
          rgba="1 0 0 1" />
      </material>
    </visual>
    <collision>
      <origin
        xyz="0 0 0"
        rpy="0 0 0" />
      <geometry>
        <mesh
          filename="package://little_boy_urdf/meshes/wheel_R2.STL" />
      </geometry>
    </collision>
  </link>

  <joint
    name="motor_R2"
    type="continuous">
    <origin
      xyz="0.15 0 0.016"
      rpy="1.5708 1.5708 0" />
    <parent
      link="robot_body" />
    <child
      link="wheel_R2" />
    <axis
      xyz="0 1 0" />
  </joint>
  
  
  <link
    name="wheel_R3">
    <inertial>
      <origin
        xyz="0 0.0172695781169907 0"
        rpy="0 0 0" />
      <mass
        value="0.082261679681697" />
      <inertia
        ixx="2.59481111948719E-05"
        ixy="9.85451180510841E-22"
        ixz="2.11965031966713E-21"
        iyy="4.33989088629492E-05"
        iyz="-4.73520043269381E-21"
        izz="2.59481111948719E-05" />
    </inertial>
    <visual>
      <origin
        xyz="0 0 0"
        rpy="0 0 0" />
      <geometry>
        <mesh
          filename="package://little_boy_urdf/meshes/wheel_R3.STL" />
      </geometry>
      <material
        name="">
        <color
          rgba="1 0 0 1" />
      </material>
    </visual>
    <collision>
      <origin
        xyz="0 0 0"
        rpy="0 0 0" />
      <geometry>
        <mesh
          filename="package://little_boy_urdf/meshes/wheel_R3.STL" />
      </geometry>
    </collision>
  </link>

  <joint
    name="motor_R3"
    type="continuous">
    <origin
      xyz="0.15 -0.12 0.016"
      rpy="1.5707963267949 1.5707963267949 0" />
    <parent
      link="robot_body" />
    <child
      link="wheel_R3" />
    <axis
      xyz="0 1 0" />
  </joint>

</robot>
